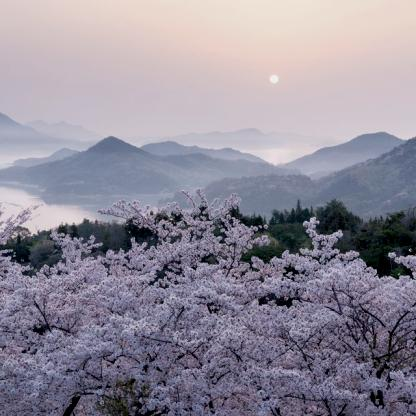Someiyoshino: (1, 203, 416, 414)
